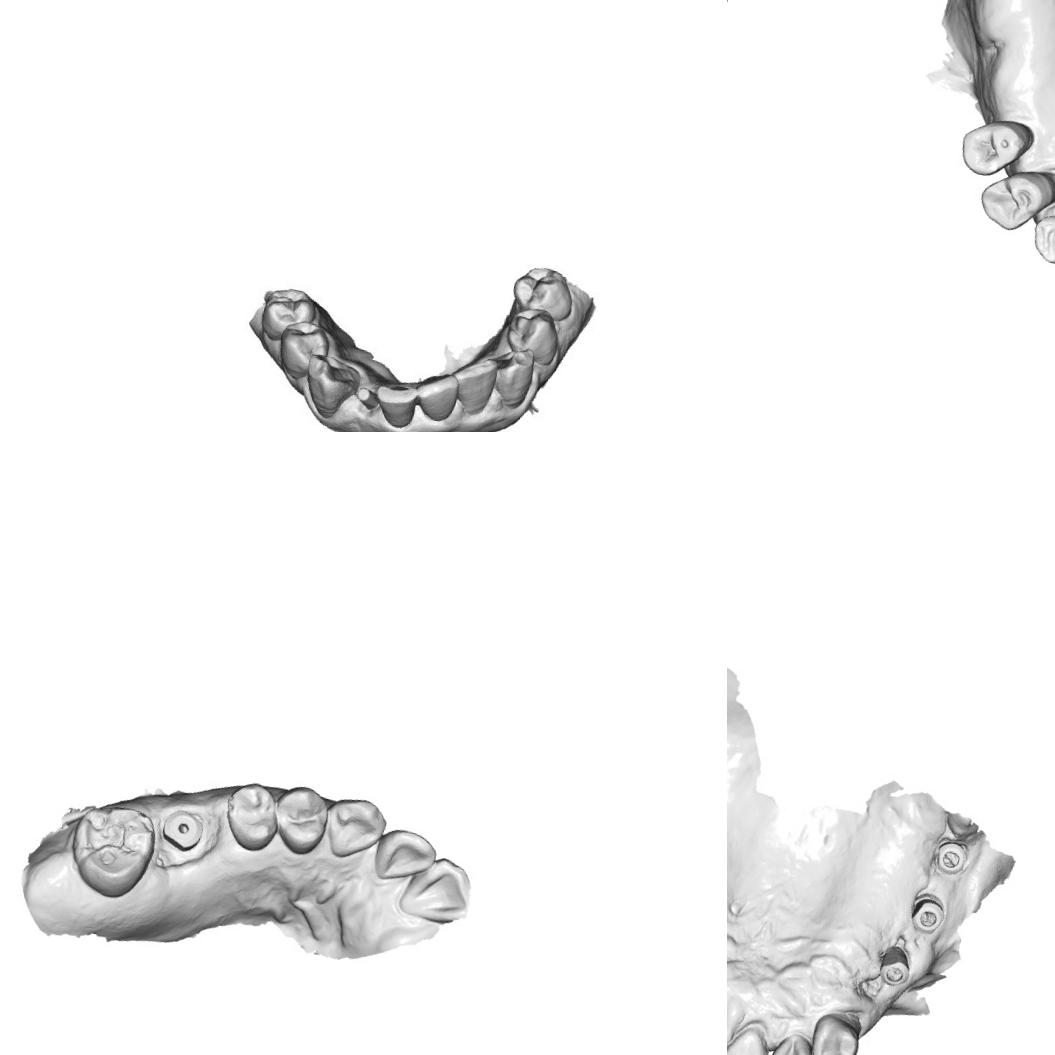abutment: (346, 381, 382, 423)
canine: (320, 791, 392, 865), (300, 357, 361, 421), (486, 343, 542, 410), (803, 1011, 863, 1055), (1025, 207, 1055, 271)
implant: (159, 804, 206, 854), (874, 941, 916, 990), (906, 892, 949, 938), (932, 836, 968, 876)
incisor: (394, 848, 476, 930), (371, 822, 440, 891), (372, 375, 418, 428), (416, 370, 462, 422), (456, 360, 500, 414), (727, 1019, 776, 1055), (763, 1027, 818, 1055)
molar: (62, 796, 162, 904)
premolar: (973, 160, 1054, 239), (954, 110, 1037, 185), (216, 777, 283, 855), (269, 780, 333, 858), (511, 260, 577, 320), (504, 304, 566, 366), (276, 318, 330, 380), (260, 290, 315, 336)
